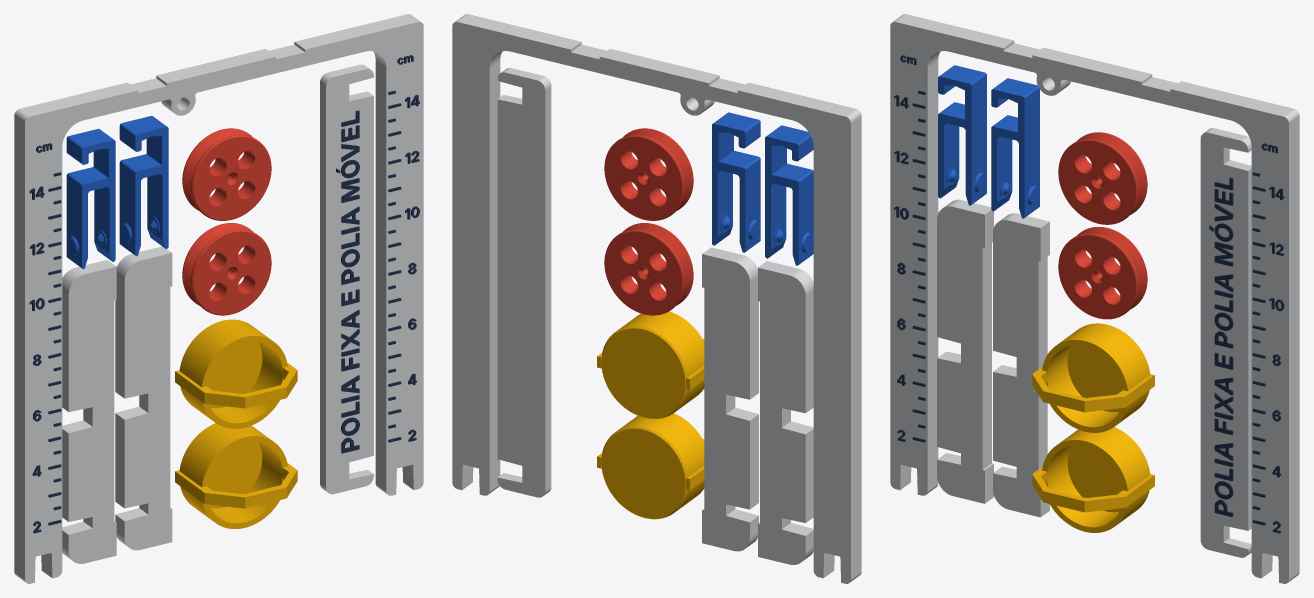
Rendered from polia_colorida.obj.
3 views of the same model, side by side, from view 1: azimuth 30°, elevation 25°; view 2: azimuth 150°, elevation 25°; view 3: azimuth 330°, elevation 25° (orthographic).
Visible parts, largest first — view 1: polia_portico, polia_placa, polia_pe_2, polia_pe_1, polia_balde_2, polia_balde_1, polia_roldana_1, polia_roldana_2, polia_garfo_1, polia_garfo_2, polia_portico_regua, polia_placa_titulo; view 2: polia_portico, polia_placa, polia_pe_2, polia_pe_1, polia_balde_2, polia_balde_1, polia_roldana_1, polia_roldana_2, polia_garfo_1, polia_garfo_2; view 3: polia_portico, polia_placa, polia_pe_1, polia_pe_2, polia_balde_2, polia_balde_1, polia_roldana_1, polia_roldana_2, polia_garfo_1, polia_garfo_2, polia_placa_titulo, polia_portico_regua.
Boxes of the visible parts, x1,y1,x2,y2 form: polia_portico: (14, 14, 423, 583); polia_placa: (320, 64, 373, 494); polia_pe_2: (115, 246, 172, 550); polia_pe_1: (62, 260, 116, 563); polia_balde_2: (175, 319, 297, 428); polia_balde_1: (175, 423, 297, 528); polia_roldana_1: (182, 223, 271, 315); polia_roldana_2: (182, 128, 271, 220); polia_garfo_1: (66, 128, 115, 268); polia_garfo_2: (119, 116, 168, 256); polia_portico_regua: (29, 55, 419, 533); polia_placa_titulo: (336, 110, 359, 453); polia_portico: (452, 14, 861, 583); polia_placa: (497, 68, 551, 497); polia_pe_2: (702, 247, 758, 551); polia_pe_1: (758, 261, 813, 564); polia_balde_2: (597, 311, 704, 418); polia_balde_1: (597, 413, 704, 519); polia_roldana_1: (604, 223, 693, 315); polia_roldana_2: (604, 128, 693, 220); polia_garfo_1: (765, 125, 813, 265); polia_garfo_2: (712, 112, 760, 252); polia_portico: (890, 14, 1299, 583); polia_placa: (1200, 128, 1251, 557); polia_pe_1: (937, 199, 993, 503); polia_pe_2: (993, 213, 1049, 517); polia_balde_2: (1032, 323, 1154, 432); polia_balde_1: (1032, 427, 1154, 532); polia_roldana_1: (1058, 226, 1147, 319); polia_roldana_2: (1058, 132, 1147, 224); polia_garfo_1: (938, 65, 986, 205); polia_garfo_2: (991, 78, 1039, 218); polia_placa_titulo: (1209, 177, 1233, 516); polia_portico_regua: (894, 55, 1284, 533).
Bounding box in the file's own units: 150 × 168 × 28.9.
